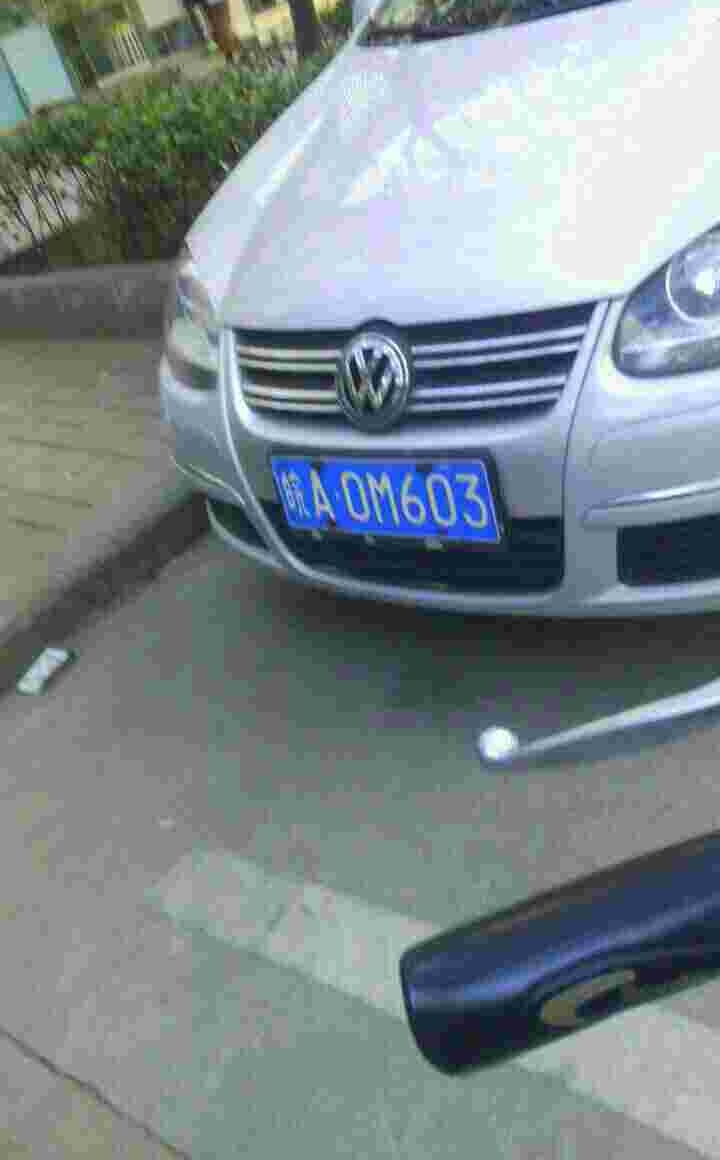license_plate: (283, 455, 488, 544)
